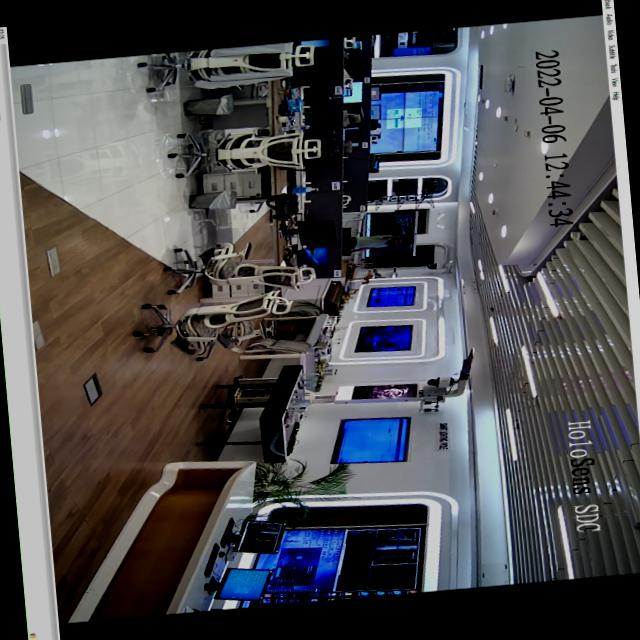long weapon: (385, 234, 401, 240)
